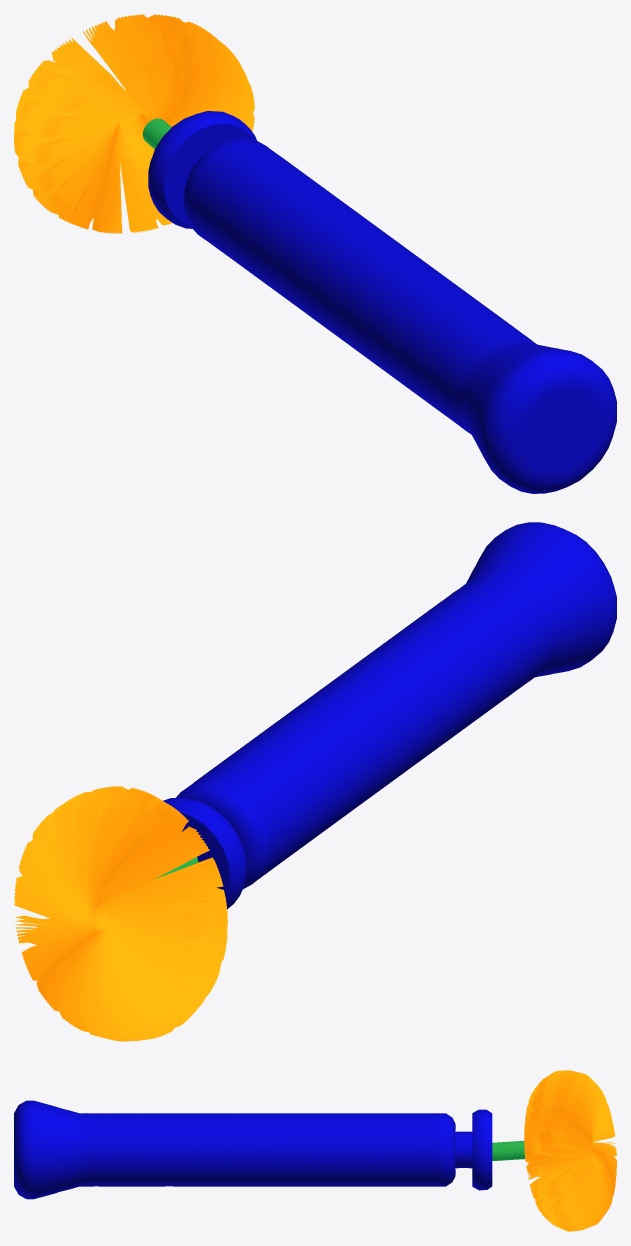
Rendered from jarron.fbx.
3 views of the same model, one above another, from view 1: azimuth 30°, elevation 25°; view 2: azimuth 150°, elevation 25°; view 3: azimuth 270°, elevation 25° (orthographic). The views are drawn at different scales.
Visible parts, largest first — view 1: Cubo, Círculo; view 2: Cubo, Círculo; view 3: Cubo, Círculo, Cilindro.
Boxes of the visible parts, x1=… form: Cubo: x1=148, y1=111, x2=616, y2=493; Círculo: x1=14, y1=14, x2=254, y2=233; Cubo: x1=163, y1=522, x2=616, y2=909; Círculo: x1=14, y1=786, x2=227, y2=1041; Cubo: x1=14, y1=1100, x2=492, y2=1199; Círculo: x1=524, y1=1070, x2=616, y2=1231; Cilindro: x1=492, y1=1140, x2=525, y2=1160.
Size of the model in its own units: 362 by 365 by 1374.
